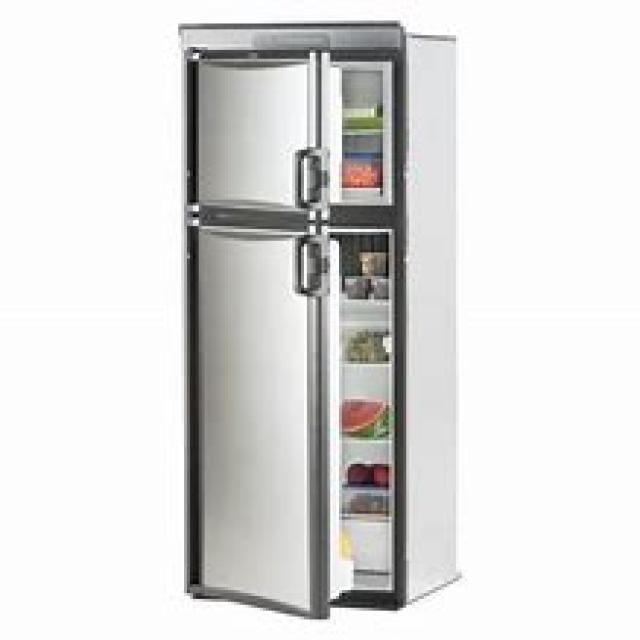fridge: (175, 18, 459, 616)
